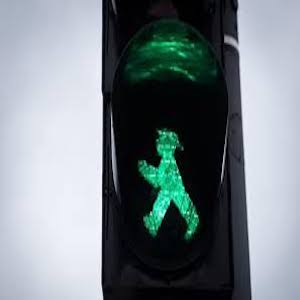green: (131, 117, 200, 236)
